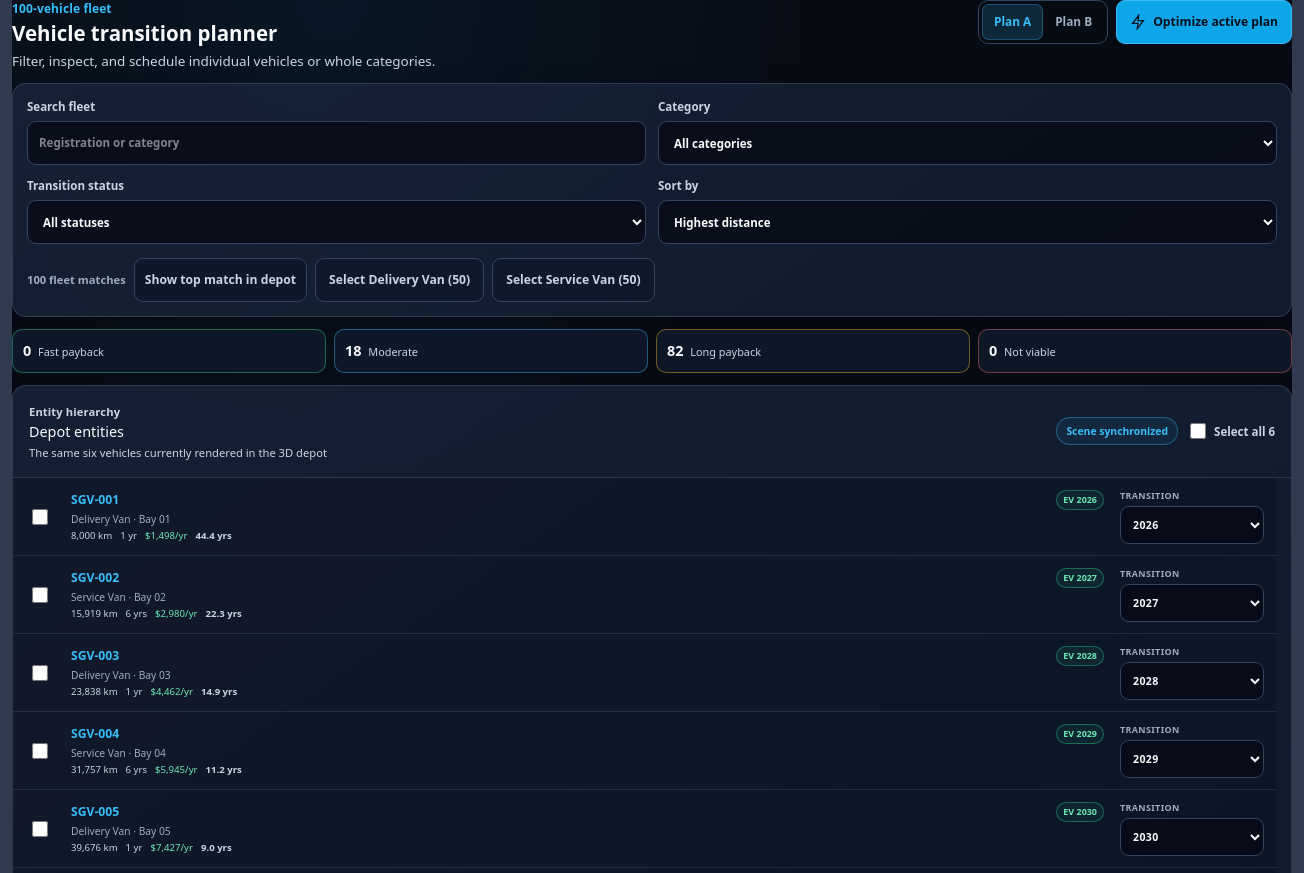
Test: FleetPlanner › loads a filtered vehicle's six-van cohort into the depot inspector
In the search field labelled "Search fleet": (336, 143) [27, 121, 646, 165], type "SGV-021"
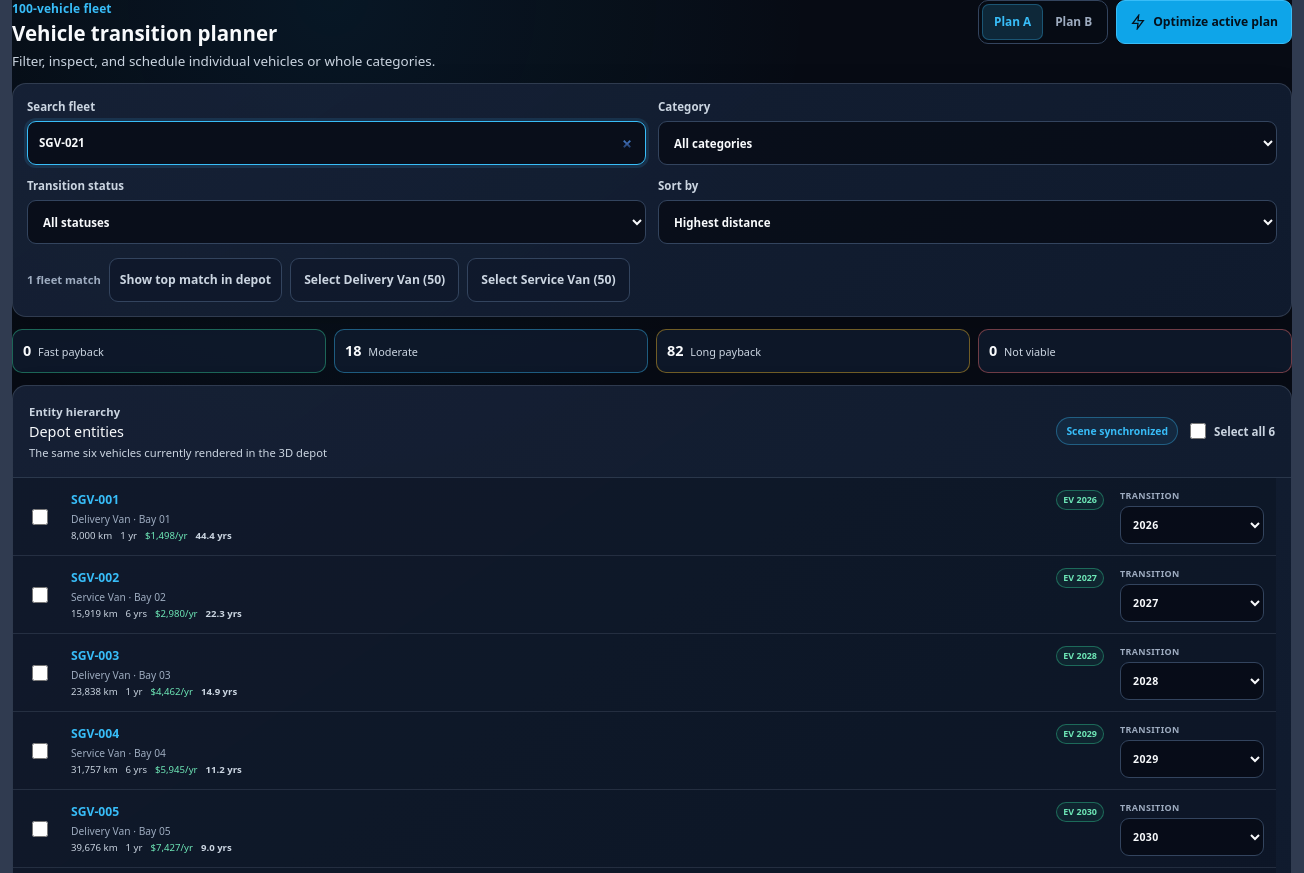
Click the button "Show top match in depot": click(196, 280) [109, 258, 282, 302]
(page scrolled)
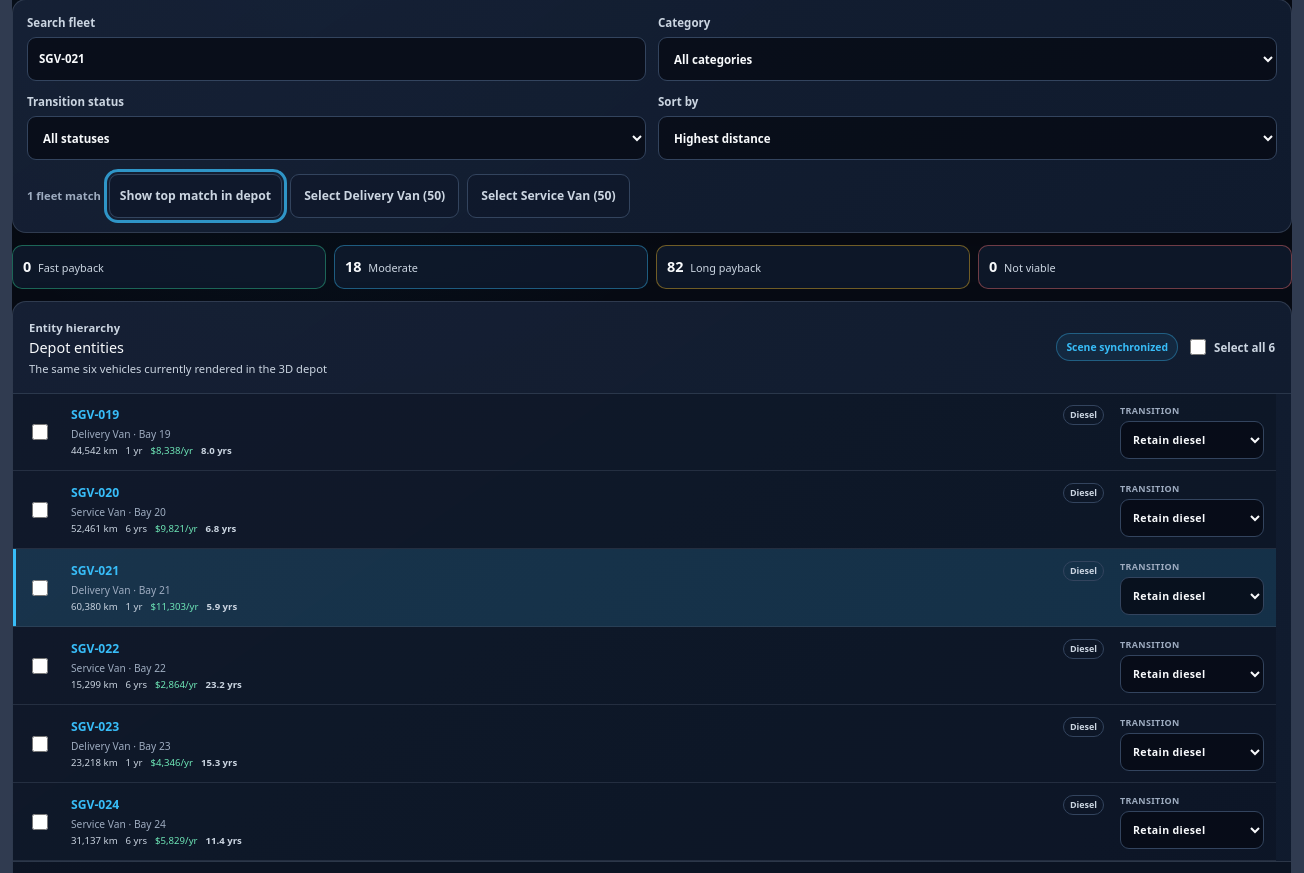
Expected: the button "SGV-019" is shown, [65, 401, 1110, 462]
Expected: the button "SGV-021" is shown, [65, 557, 1110, 618]
Expected: the button "SGV-024" is shown, [65, 791, 1110, 852]
